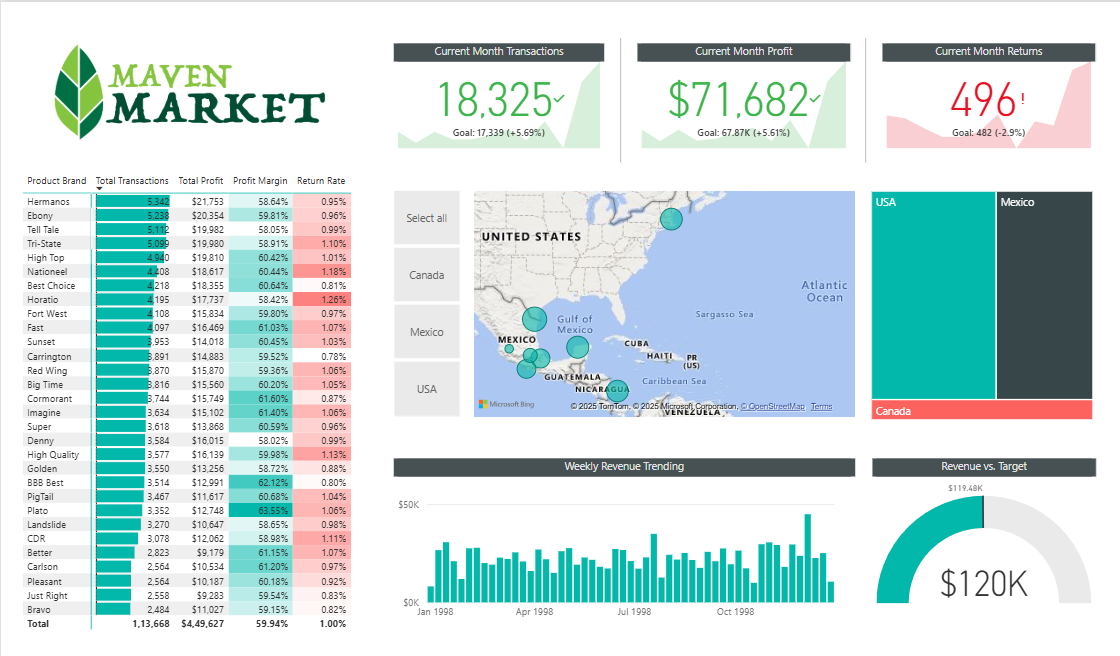

What the dashboard file says about the page in this screenshot:
{"tool":"powerbi","page":{"name":"Topline Performance","canvas":[1280,720],"ordinal":0},"visuals":[{"type":"image","box":[40,7.5,346.6,132.7],"z":0},{"type":"pivotTable","fields":{"Values":["Transaction_Data.Total Transactions","Transaction_Data.Total Profit","Transaction_Data.Profit Margin","Return_Data.Return Rate"],"Rows":["Products.product_brand"]},"box":[20.6,161.3,401.5,536],"z":1000},{"type":"kpi","title":"Current Month Transactions","fields":{"TrendLine":["Calendar.Start of Month"],"Goal":["Transaction_Data.Last Month Transactions"],"Indicator":["Transaction_Data.Total Transactions"]},"box":[445.9,19,240.2,124.7],"z":2000},{"type":"kpi","title":"Current Month Profit","fields":{"TrendLine":["Calendar.Start of Month"],"Goal":["Transaction_Data.Last Month Profit"],"Indicator":["Transaction_Data.Total Profit"]},"box":[723.3,19,242.5,124.7],"z":3000},{"type":"kpi","title":"Current Month Returns","fields":{"TrendLine":["Calendar.Start of Month"],"Goal":["Return_Data.Last Month Returns"],"Indicator":["Return_Data.Total Returns"]},"box":[1003,19,242.5,124.7],"z":4000},{"type":"map","fields":{"Category":["Stores.store_city"],"Size":["Transaction_Data.Total Transactions"]},"box":[532.8,182.5,442.7,266.5],"z":5000},{"type":"slicer","fields":{"Values":["Stores.store_country"]},"box":[420.5,178.9,124.7,270],"z":6000},{"type":"columnChart","title":"Weekly Revenue Trending","fields":{"Category":["Calendar.Start of Week"],"Y":["Transaction_Data.Total Revenue"]},"box":[445.9,490,525.3,192.2],"z":7000},{"type":"gauge","title":"Revenue vs. Target","fields":{"Y":["Transaction_Data.Total Revenue"],"TargetValue":["Transaction_Data.Revenue Target"]},"box":[991.1,490,254.4,171.6],"z":8000},{"type":"basicShape","box":[671.7,2.9,67.5,161.3],"z":9000},{"type":"basicShape","box":[950.3,2.9,67.5,161.3],"z":10000},{"type":"treemap","fields":{"Group":["Stores.store_country","Stores.store_state","Stores.store_city"],"Values":["Transaction_Data.Total Transactions"]},"box":[985.8,181.4,261.9,270],"z":11000}]}

Visuals, with their boxes on the page's 1280x720 design canvas (x1, y1, x2, y2). These are canvas units, not pixel positions in the 1120x656 screenshot, which may show the page scaled, cropped or inside an application window:
image: {"left": 40, "top": 8, "right": 387, "bottom": 140}
pivotTable - Transaction_Data.Total Transactions x Transaction_Data.Total Profit: {"left": 21, "top": 161, "right": 422, "bottom": 697}
"Current Month Transactions" kpi: {"left": 446, "top": 19, "right": 686, "bottom": 144}
"Current Month Profit" kpi: {"left": 723, "top": 19, "right": 966, "bottom": 144}
"Current Month Returns" kpi: {"left": 1003, "top": 19, "right": 1246, "bottom": 144}
map - Stores.store_city x Transaction_Data.Total Transactions: {"left": 533, "top": 182, "right": 976, "bottom": 449}
slicer - Stores.store_country: {"left": 420, "top": 179, "right": 545, "bottom": 449}
"Weekly Revenue Trending" columnChart: {"left": 446, "top": 490, "right": 971, "bottom": 682}
"Revenue vs. Target" gauge: {"left": 991, "top": 490, "right": 1246, "bottom": 662}
basicShape: {"left": 672, "top": 3, "right": 739, "bottom": 164}
basicShape: {"left": 950, "top": 3, "right": 1018, "bottom": 164}
treemap - Stores.store_country x Stores.store_state: {"left": 986, "top": 181, "right": 1248, "bottom": 451}
